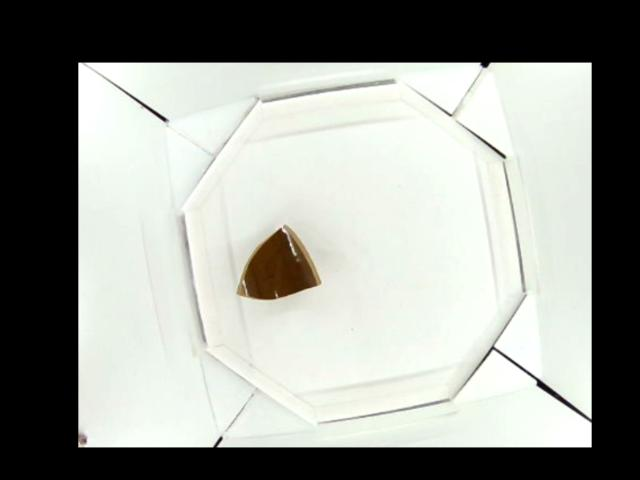China: (237, 224, 322, 302)
